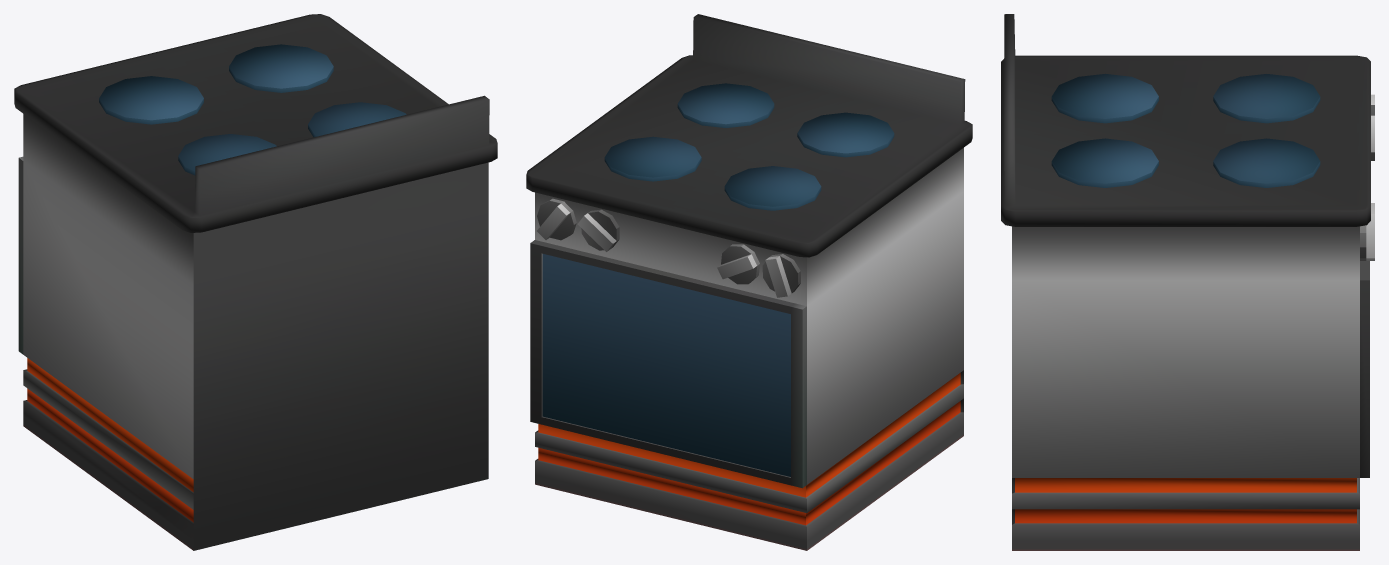
Rendered from Stove.fbx.
The picture shows the model from 3 angles, left to right: view 1: azimuth 30°, elevation 25°; view 2: azimuth 150°, elevation 25°; view 3: azimuth 270°, elevation 25°; orthographic projection. The views are drawn at different scales.
Parts seen in each view (by area): view 1: Stove; view 2: Stove; view 3: Stove.
Boxes of the visible parts, x1,y1,x2,y2 form: Stove: (14, 14, 497, 550); Stove: (526, 14, 972, 550); Stove: (1001, 14, 1374, 550).
Bounding box in the file's own units: 138 × 118 × 119.
